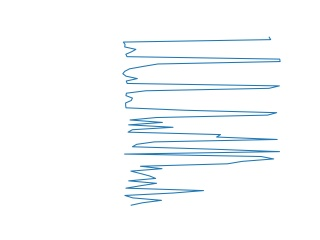crevasseRiverChannelBar: (122, 160, 247, 205)
majorRiverBedLagDeposit: (120, 119, 285, 161)
majorRiverChannelBar: (119, 34, 284, 117)
